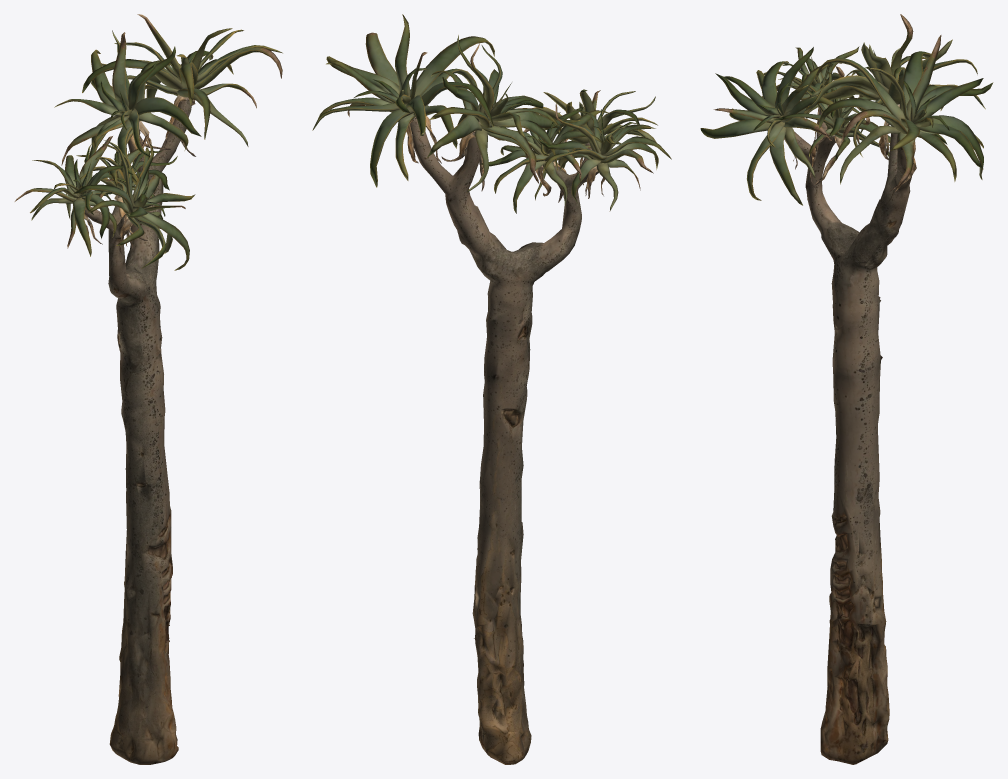
The model's file is quiver_tree_01.glb.
The picture shows the model from 3 angles, left to right: view 1: azimuth 30°, elevation 25°; view 2: azimuth 150°, elevation 25°; view 3: azimuth 270°, elevation 25°; orthographic projection. The views are drawn at different scales.
Parts seen in each view (by area): view 1: quiver_tree_01; view 2: quiver_tree_01; view 3: quiver_tree_01.
Boxes of the visible parts, <box> form: quiver_tree_01: <box>14,14,282,764</box>; quiver_tree_01: <box>312,14,671,764</box>; quiver_tree_01: <box>700,14,993,764</box>.
Bounding box in the file's own units: 1.18 × 2.72 × 0.9676.
2 materials, 2 textured.
